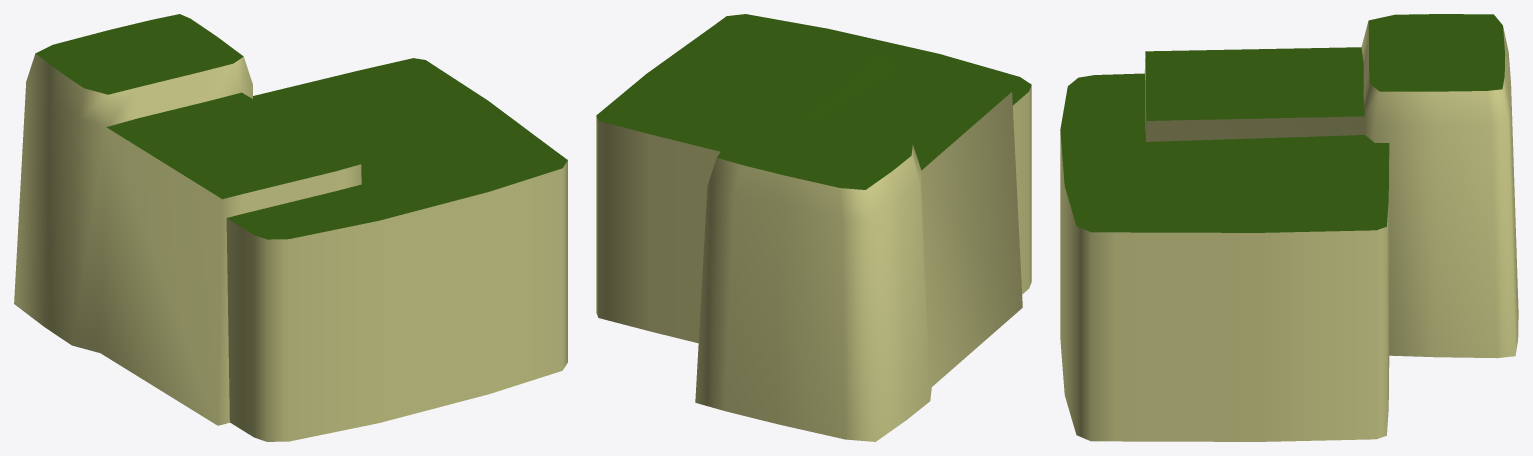
Rendered from Islands_20.FBX.
The picture shows the model from 3 angles, left to right: view 1: azimuth 30°, elevation 25°; view 2: azimuth 150°, elevation 25°; view 3: azimuth 270°, elevation 25°; orthographic projection. The views are drawn at different scales.
Parts seen in each view (by area): view 1: Islands_20; view 2: Islands_20; view 3: Islands_20.
Boxes of the visible parts, x1,y1,x2,y2 form: Islands_20: (14, 14, 567, 441); Islands_20: (596, 14, 1031, 441); Islands_20: (1060, 14, 1518, 441).
Size of the model in its own units: 59.64 by 40.4 by 64.49.
